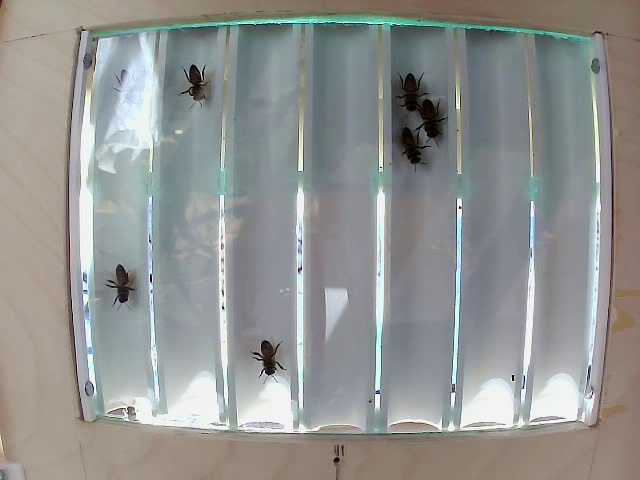bee: (104, 262, 147, 333), (243, 338, 281, 390), (177, 60, 213, 103), (395, 125, 424, 172), (396, 66, 422, 103), (416, 97, 440, 133)
